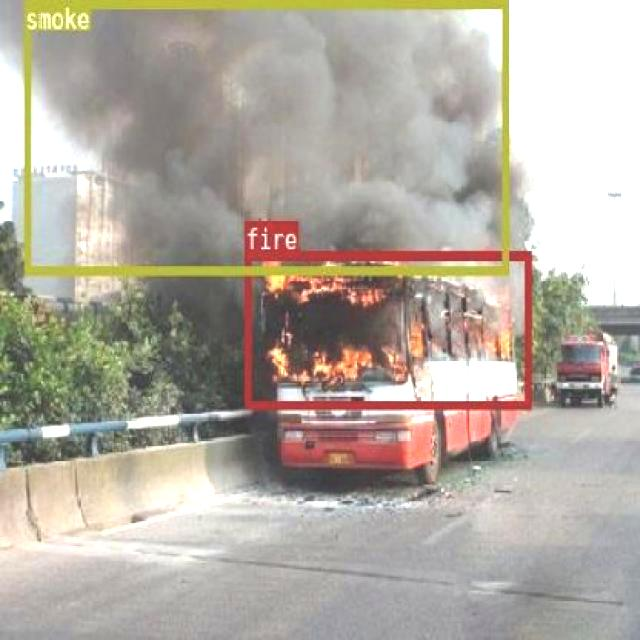fire: (244, 251, 530, 406)
smoke: (23, 0, 508, 274)
